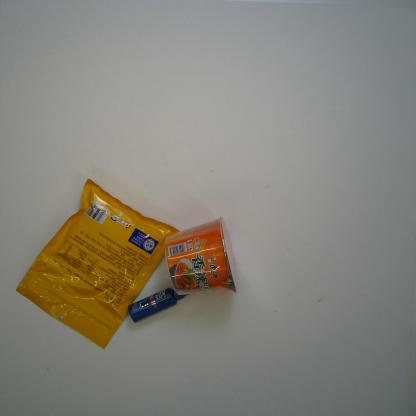Dried Fruit: (15, 178, 180, 350)
Instant Noodles: (164, 214, 240, 296)
Personal Hygiene: (127, 287, 190, 323)
